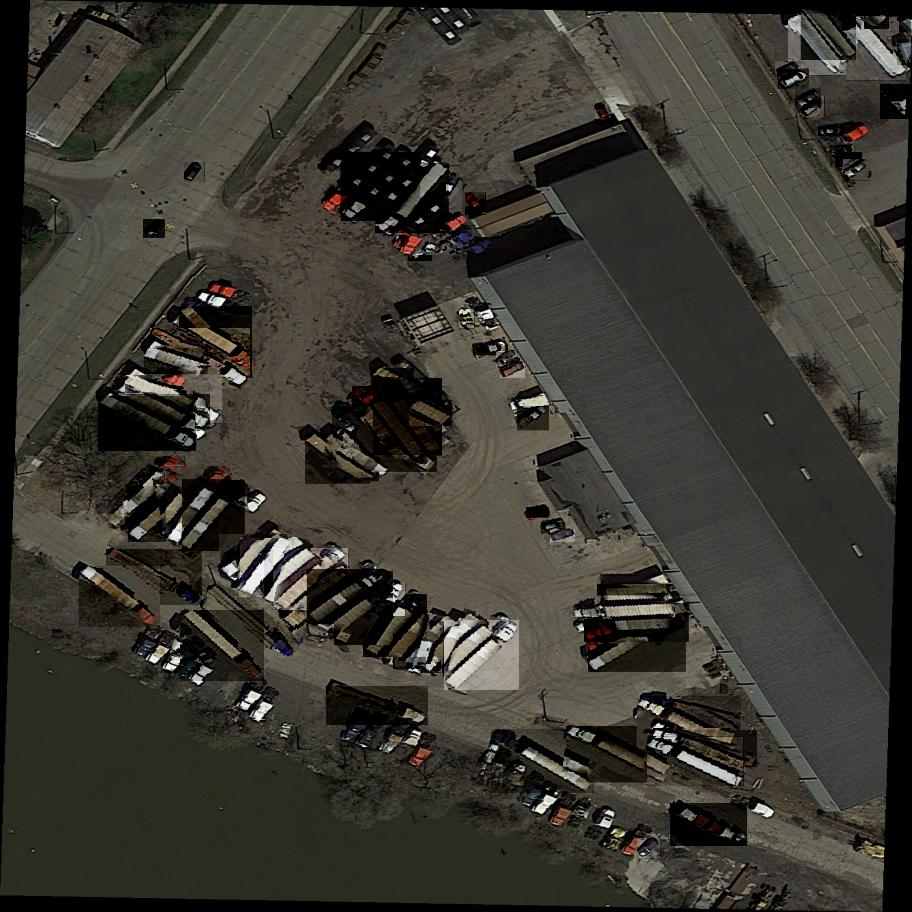large-vehicle: (332, 405, 437, 474), (207, 584, 298, 661), (491, 728, 595, 795), (180, 608, 265, 683), (567, 725, 672, 785), (150, 328, 250, 391), (351, 384, 428, 465), (588, 610, 686, 673), (105, 548, 202, 610), (341, 150, 420, 224), (373, 376, 443, 459), (375, 161, 451, 237), (108, 455, 185, 530), (180, 303, 253, 381), (445, 619, 521, 693), (99, 395, 197, 452), (399, 172, 463, 259), (163, 464, 230, 547), (321, 147, 404, 214), (637, 698, 735, 754), (80, 565, 160, 630), (274, 545, 349, 614), (647, 735, 744, 788), (124, 374, 223, 425), (334, 568, 394, 648), (183, 480, 245, 555), (307, 568, 385, 626), (364, 592, 428, 660), (584, 603, 689, 644), (326, 685, 428, 726), (847, 14, 907, 83), (787, 14, 850, 79), (654, 730, 758, 769), (129, 485, 191, 544), (800, 0, 857, 64), (305, 431, 371, 486), (113, 393, 210, 430), (670, 802, 748, 848), (418, 619, 479, 676), (640, 696, 741, 730), (241, 537, 293, 600), (220, 534, 288, 580), (406, 612, 451, 679), (332, 424, 381, 484), (264, 549, 312, 608), (443, 624, 488, 683), (394, 606, 428, 673), (145, 348, 209, 377), (574, 603, 675, 619), (372, 366, 415, 397), (409, 398, 452, 428), (881, 80, 912, 119), (597, 584, 669, 596), (511, 396, 550, 414), (865, 14, 891, 31), (900, 18, 910, 32)
small-vehicle: (371, 580, 407, 621), (517, 405, 549, 432), (843, 159, 872, 183), (779, 69, 809, 91), (408, 240, 432, 264), (801, 96, 826, 119), (338, 420, 360, 446), (638, 838, 662, 861), (795, 88, 821, 109), (185, 160, 206, 185), (776, 60, 802, 80), (143, 217, 165, 240), (466, 192, 487, 216), (500, 360, 526, 379), (835, 152, 862, 169), (497, 350, 519, 370), (596, 103, 614, 127), (551, 529, 575, 543), (460, 309, 475, 330), (473, 346, 508, 355), (541, 521, 565, 533), (526, 507, 549, 519), (818, 126, 844, 136), (831, 146, 854, 156)
